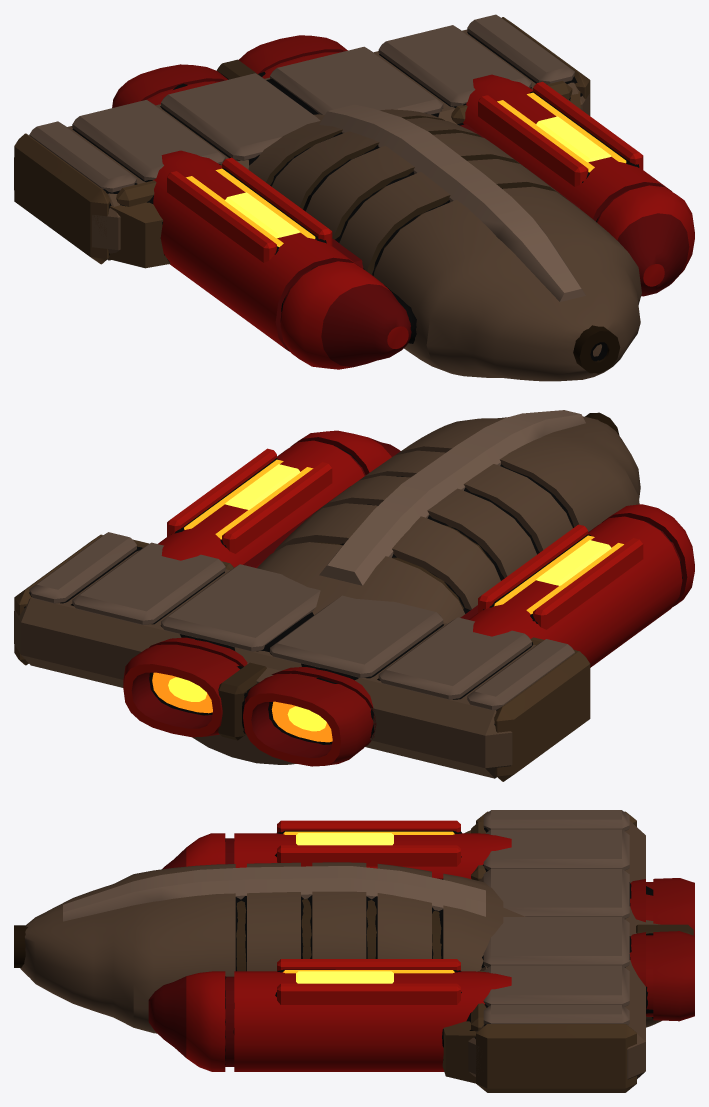
The model's file is newshd-115.glb.
3 renders of one model, top to bottom at view 1: azimuth 30°, elevation 25°; view 2: azimuth 150°, elevation 25°; view 3: azimuth 270°, elevation 25°, orthographic. The views are drawn at different scales.
Visible parts, largest first — view 1: newshd-115, newshd-115_outline; view 2: newshd-115, newshd-115_outline; view 3: newshd-115, newshd-115_outline.
Part boxes in pixels (box(x1,y1,x2,y2)): newshd-115: box(14, 14, 694, 381); newshd-115_outline: box(72, 32, 639, 361); newshd-115: box(14, 410, 694, 781); newshd-115_outline: box(24, 445, 682, 744); newshd-115: box(14, 810, 694, 1092); newshd-115_outline: box(225, 827, 653, 1064).
Bounding box in the file's own units: 1.74 × 0.5494 × 2.25.
